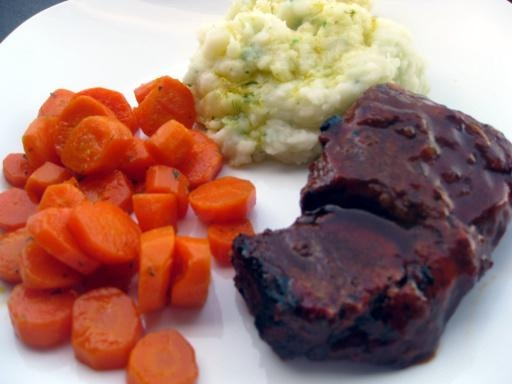background: (0, 0, 410, 230)
